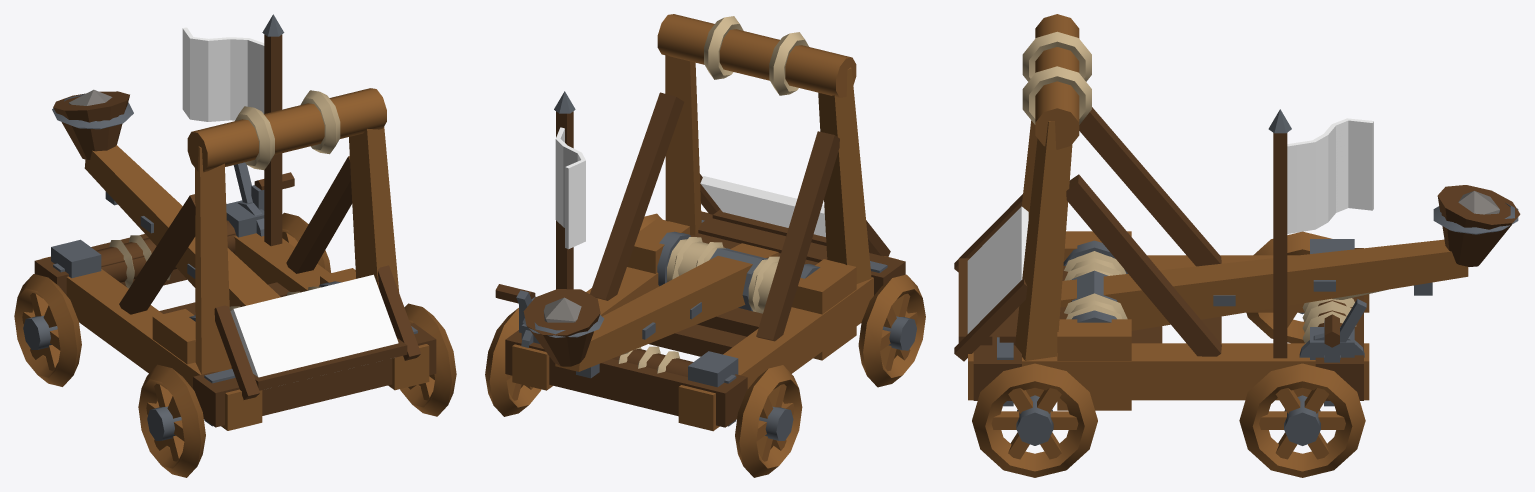
Rendered from Catapult_FirstAge.glb.
3 views of the same model, side by side, from view 1: azimuth 30°, elevation 25°; view 2: azimuth 150°, elevation 25°; view 3: azimuth 270°, elevation 25° (orthographic). The views are drawn at different scales.
Parts seen in each view (by area): view 1: Wood, Dark, Team, Wheel_Wood, Arm_Wood, Metal, Rope, Arm_Dark, Wheel_Metal, Arm_Metal; view 2: Wood, Dark, Wheel_Wood, Arm_Wood, Team, Rope, Arm_Dark, Metal, Arm_Metal, Wheel_Metal, Arm_Stone; view 3: Wood, Dark, Wheel_Wood, Arm_Wood, Team, Rope, Metal, Arm_Dark, Wheel_Metal, Arm_Metal, Arm_Stone.
Boxes of the visible parts, bbox=[...] form: Wood: bbox=[42, 88, 429, 430]; Dark: bbox=[34, 34, 436, 427]; Team: bbox=[182, 27, 398, 377]; Wheel_Wood: bbox=[14, 212, 456, 477]; Arm_Wood: bbox=[84, 145, 280, 306]; Metal: bbox=[51, 14, 417, 426]; Rope: bbox=[109, 90, 340, 311]; Arm_Dark: bbox=[53, 91, 129, 159]; Wheel_Metal: bbox=[23, 315, 181, 440]; Arm_Metal: bbox=[52, 93, 195, 278]; Wood: bbox=[512, 14, 898, 431]; Dark: bbox=[495, 92, 905, 427]; Wheel_Wood: bbox=[485, 213, 925, 477]; Arm_Wood: bbox=[555, 243, 778, 371]; Team: bbox=[555, 127, 825, 249]; Rope: bbox=[618, 16, 808, 373]; Arm_Dark: bbox=[523, 289, 600, 366]; Metal: bbox=[516, 91, 887, 426]; Arm_Metal: bbox=[522, 248, 767, 378]; Wheel_Metal: bbox=[759, 316, 916, 440]; Arm_Stone: bbox=[543, 297, 581, 322]; Wood: bbox=[968, 14, 1369, 410]; Dark: bbox=[954, 107, 1363, 400]; Wheel_Wood: bbox=[972, 231, 1365, 477]; Arm_Wood: bbox=[1060, 239, 1468, 330]; Team: bbox=[967, 118, 1373, 333]; Rope: bbox=[1022, 31, 1387, 343]; Metal: bbox=[997, 109, 1366, 406]; Arm_Dark: bbox=[1437, 185, 1520, 266]; Wheel_Metal: bbox=[1016, 312, 1320, 445]; Arm_Metal: bbox=[1071, 203, 1518, 306]; Arm_Stone: bbox=[1458, 191, 1499, 214].
Size of the model in its own units: 0.95 by 1.08 by 1.52.
